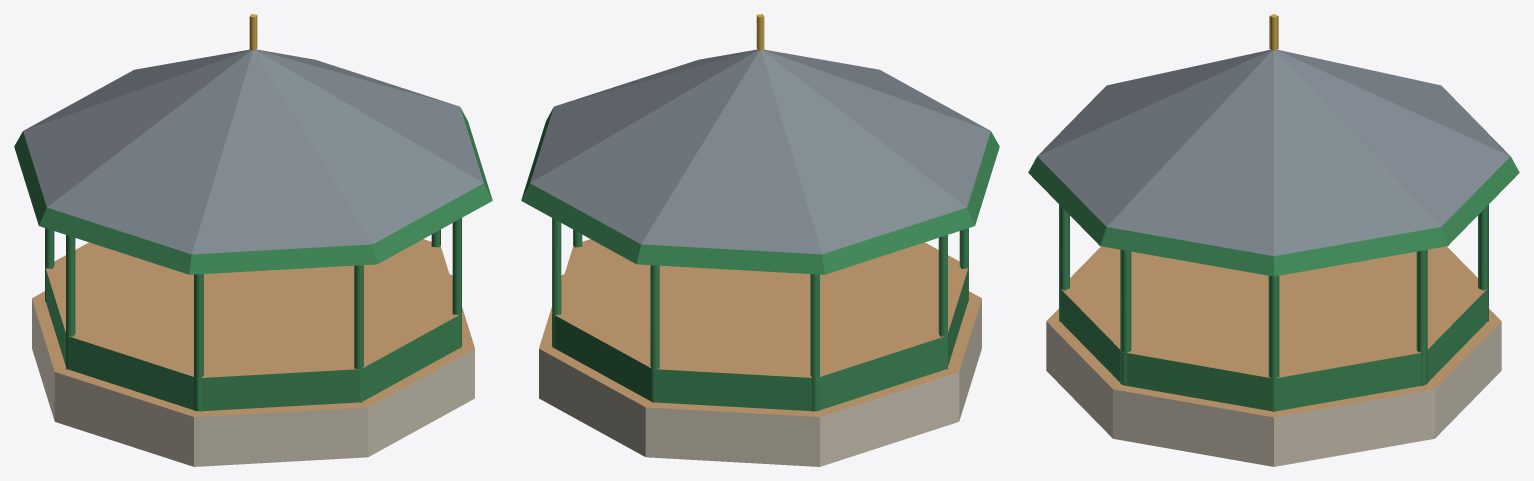
The model's file is kiosque_fanfare.glb.
3 views of the same model, side by side, from view 1: azimuth 30°, elevation 25°; view 2: azimuth 150°, elevation 25°; view 3: azimuth 270°, elevation 25° (orthographic).
Parts seen in each view (by area): view 1: kiosque_fanfare; view 2: kiosque_fanfare; view 3: kiosque_fanfare.
Part boxes in pixels (x1=…): kiosque_fanfare: x1=14, y1=14, x2=492, y2=466; kiosque_fanfare: x1=521, y1=14, x2=999, y2=466; kiosque_fanfare: x1=1028, y1=14, x2=1519, y2=466.
Bounding box in the file's own units: 10.8 × 8.6 × 10.8.
Materials: 1 (1 with a texture image).
